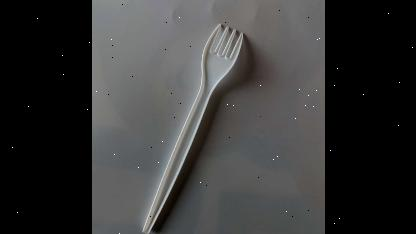Others: (137, 17, 246, 234)
